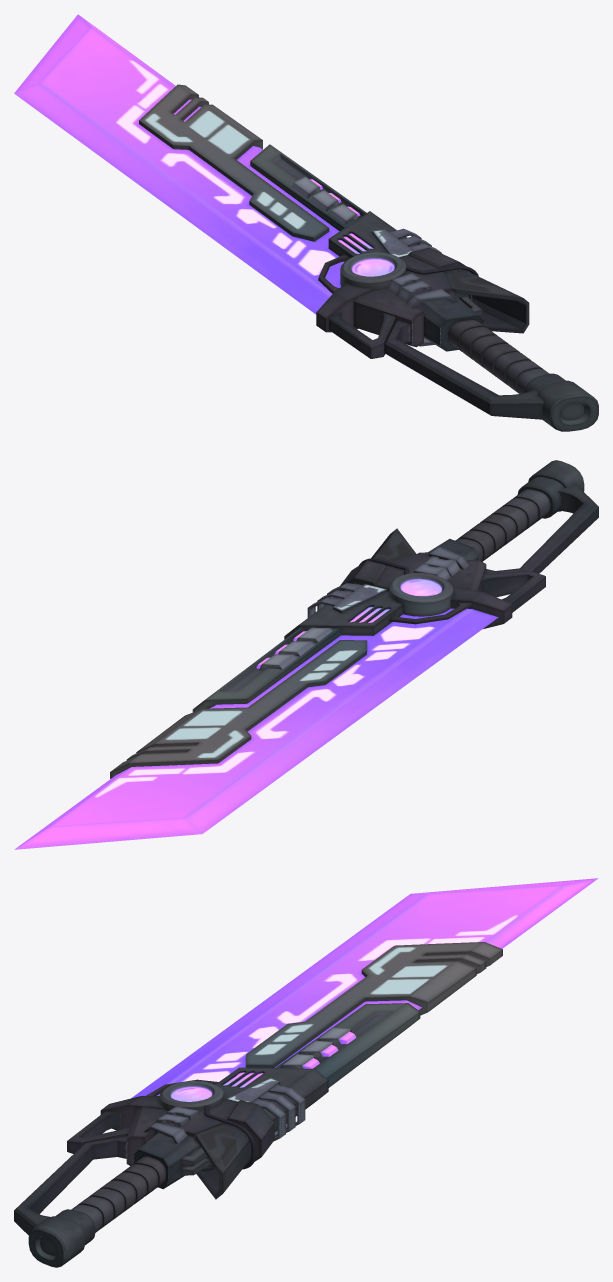
The model's file is aetheris_edge.glb.
The picture shows the model from 3 angles, top to bottom: view 1: azimuth 30°, elevation 25°; view 2: azimuth 150°, elevation 25°; view 3: azimuth 330°, elevation 25°; orthographic projection. The views are drawn at different scales.
Visible parts, largest first — view 1: Aetheris Edge; view 2: Aetheris Edge; view 3: Aetheris Edge.
Boxes of the visible parts, left/top/right/bottom form: Aetheris Edge: left=14, top=14, right=598, bottom=431; Aetheris Edge: left=14, top=460, right=598, bottom=849; Aetheris Edge: left=14, top=878, right=598, bottom=1267.
Size of the model in its own units: 0.3021 by 0.0944 by 1.7.
1 material, 1 textured.
